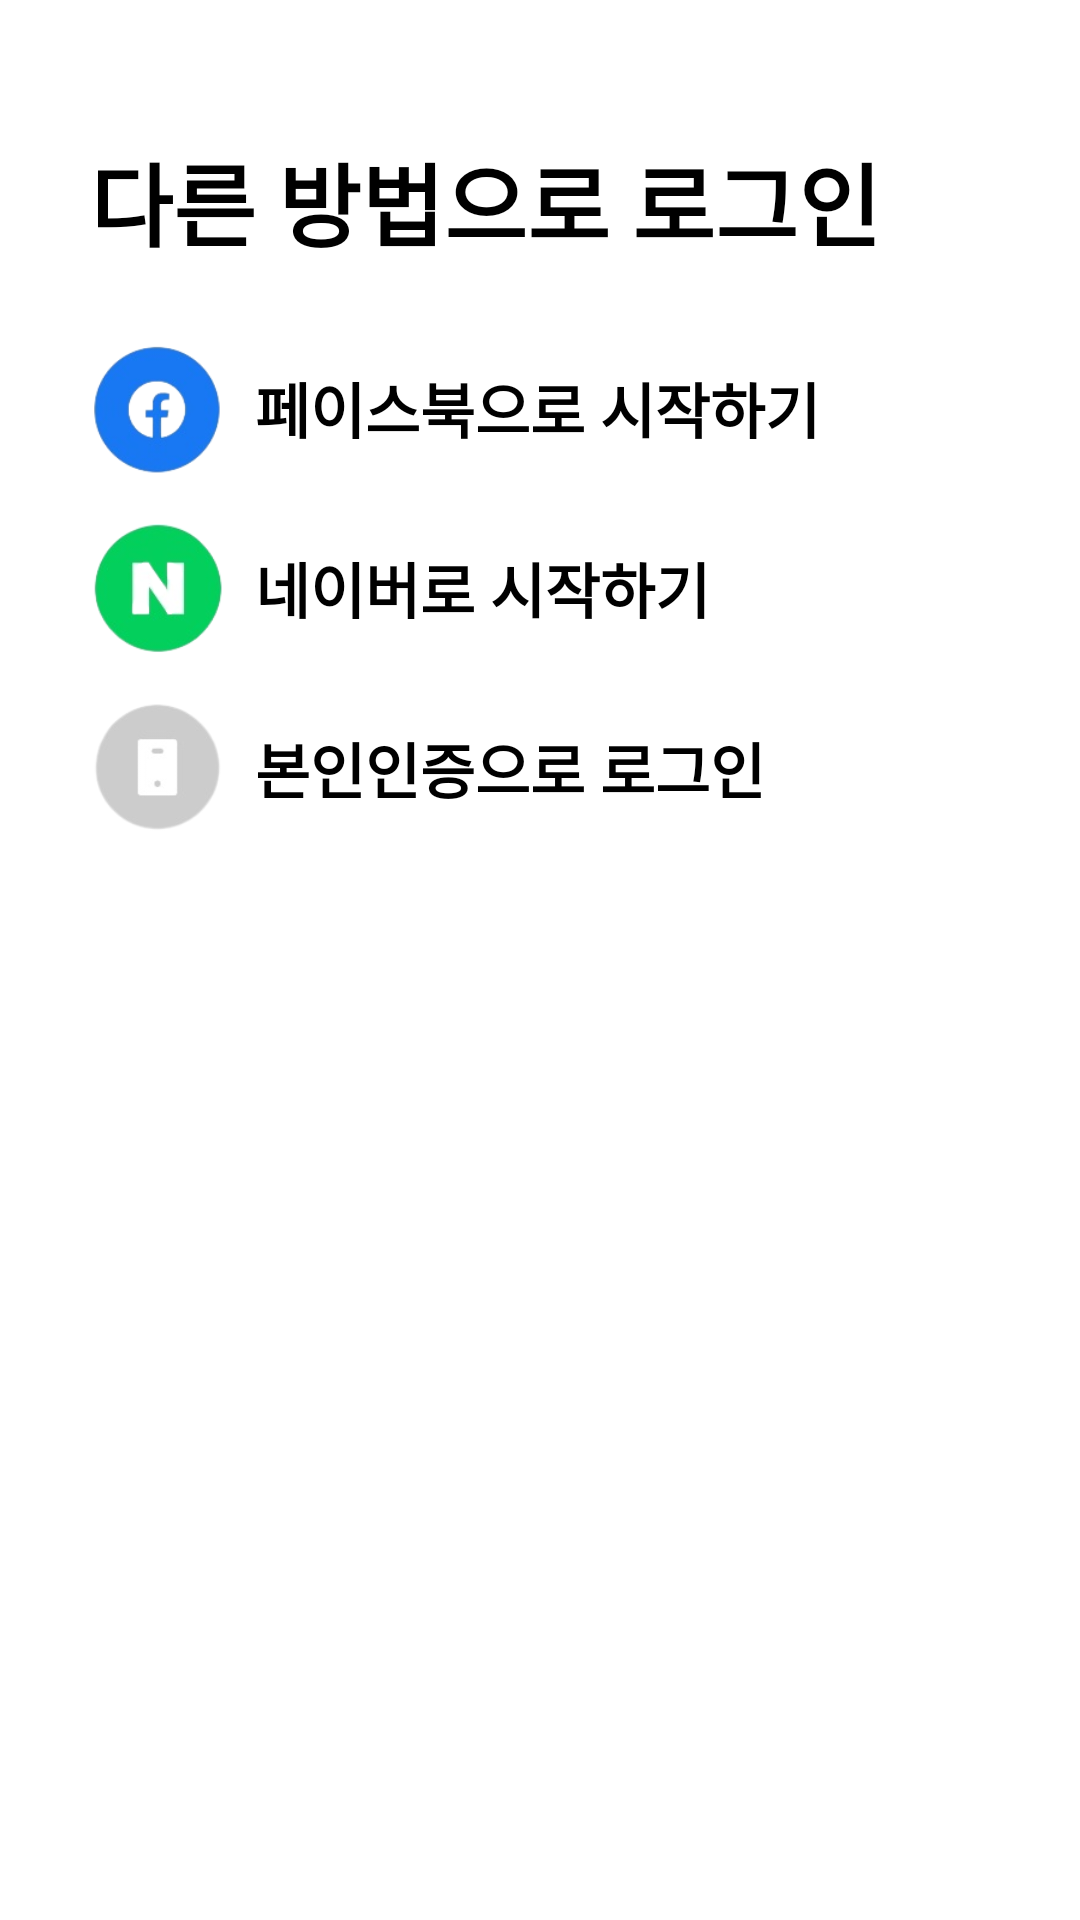

Locate icon controls on the screen. Image size 1080*1920, boxes as (x1, y1, x2, y2).
login myphone: (96, 705, 219, 829)
